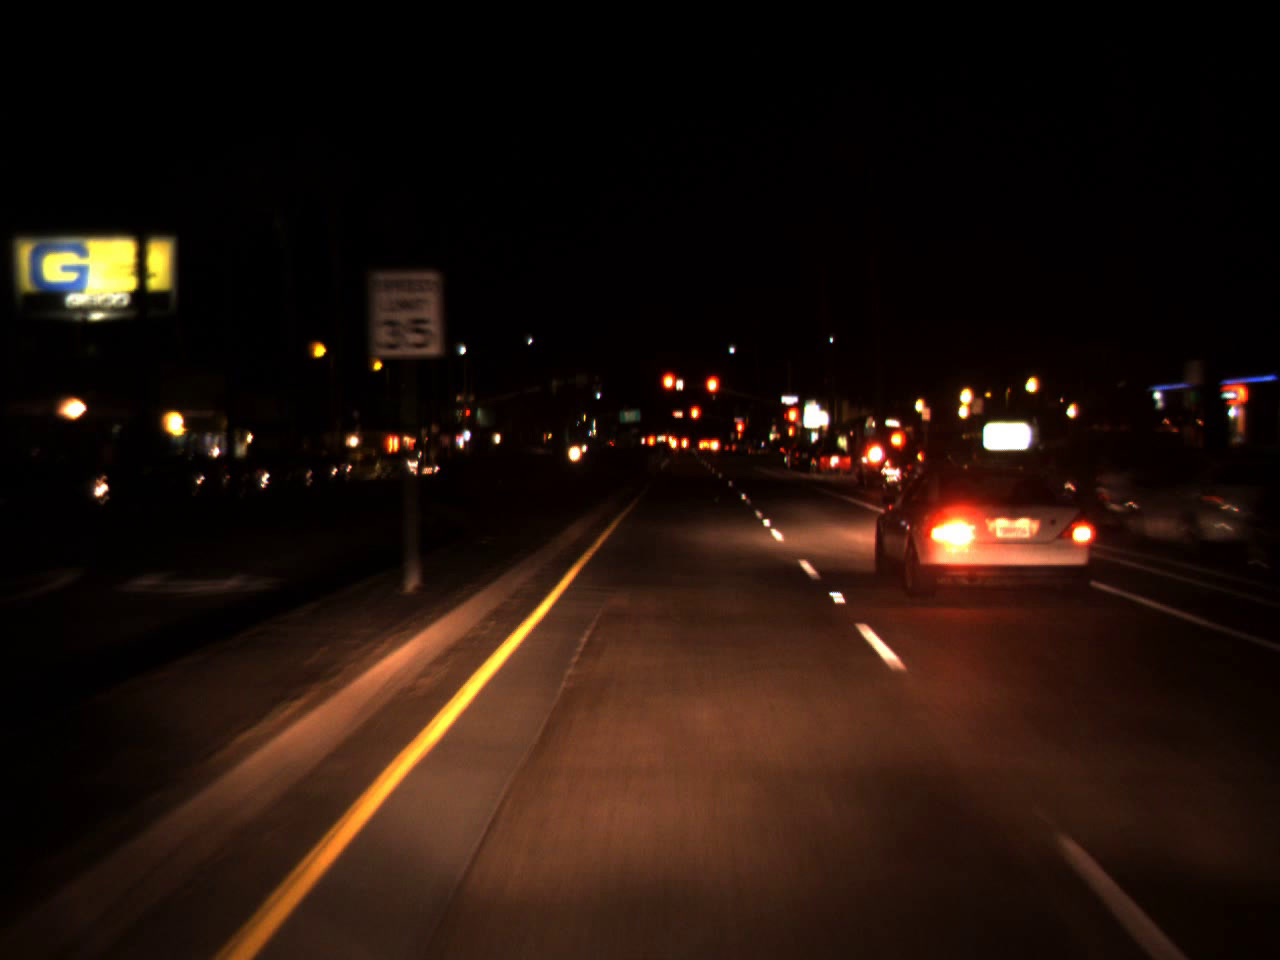stop: (659, 370, 678, 410), (703, 373, 720, 413), (785, 404, 800, 441), (688, 403, 701, 435), (735, 417, 745, 449)
